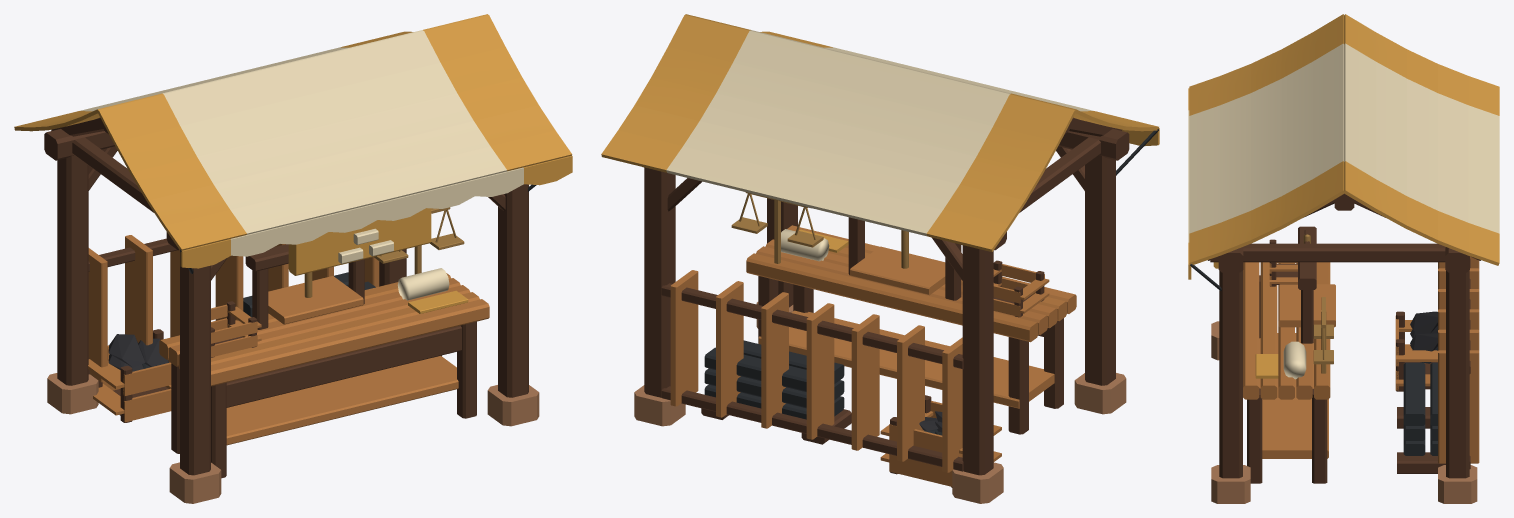
The model's file is station_trade_highridge_a.glb.
The picture shows the model from 3 angles, left to right: view 1: azimuth 30°, elevation 25°; view 2: azimuth 150°, elevation 25°; view 3: azimuth 270°, elevation 25°; orthographic projection. The views are drawn at different scales.
Visible parts, largest first — view 1: station_trade_highridge_a_workyard; view 2: station_trade_highridge_a_workyard; view 3: station_trade_highridge_a_workyard.
Part boxes in pixels (<box>): station_trade_highridge_a_workyard: <box>14,14,572,503</box>; station_trade_highridge_a_workyard: <box>601,14,1159,503</box>; station_trade_highridge_a_workyard: <box>1188,14,1499,503</box>.
Size of the model in its own units: 4.07 by 3.44 by 3.02.
